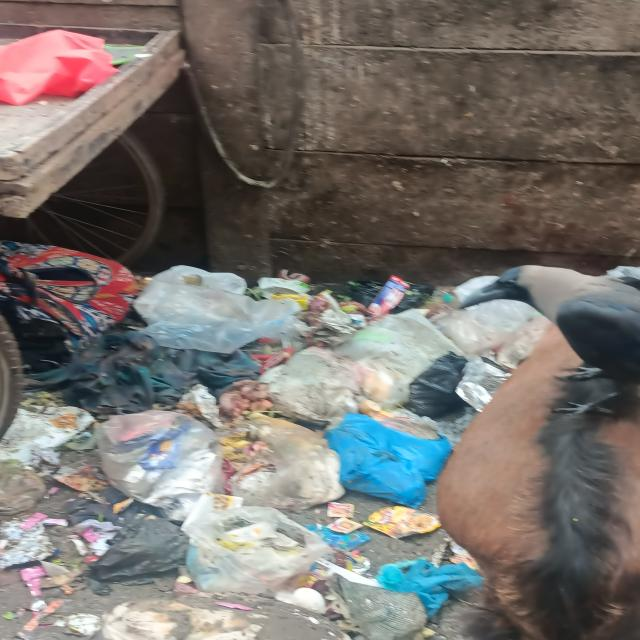garbage: (0, 243, 535, 640)
